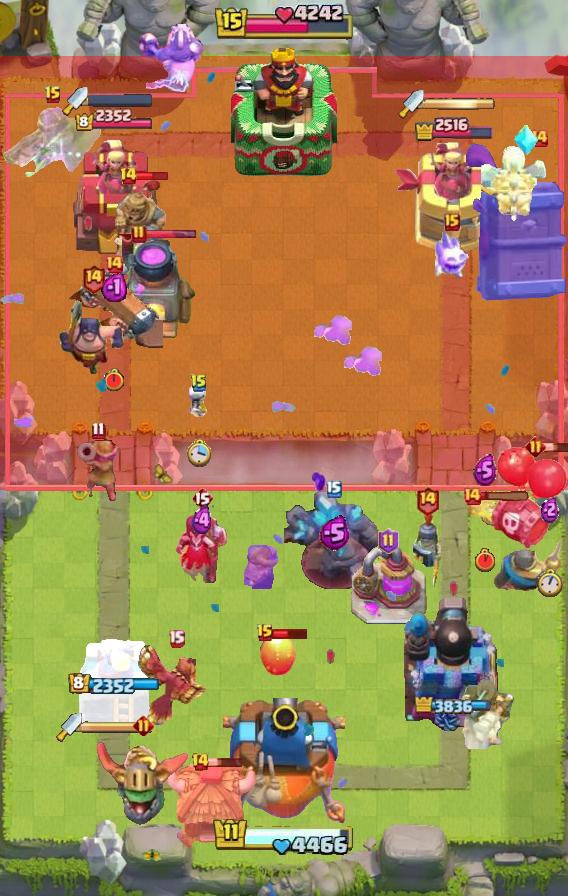bar: (395, 142, 514, 256), (70, 138, 158, 256), (77, 637, 151, 731)
barbarian-hut: (1, 101, 105, 179)
battle-healer: (65, 267, 163, 349)
bomb-tower: (77, 433, 119, 503)
cannoneer-tower: (284, 489, 384, 589)
clock: (212, 816, 356, 858), (213, 3, 355, 43)
dart-goblin: (464, 143, 568, 301)
electro-spirit: (319, 515, 349, 551), (101, 270, 127, 301), (473, 454, 497, 486), (191, 504, 214, 535), (541, 495, 559, 523)
elixir: (537, 568, 563, 598), (188, 439, 213, 468), (103, 368, 125, 392), (475, 548, 495, 572)
emote: (145, 229, 197, 240), (479, 490, 531, 501), (271, 627, 308, 640), (207, 756, 244, 768), (135, 170, 170, 182), (544, 441, 568, 453)
firecracker: (493, 538, 565, 593)
freeze: (136, 24, 204, 96)
goblin-giant: (244, 542, 280, 589)
golden-knight: (138, 644, 214, 726)
heal-spirit: (186, 385, 212, 419)
hog: (258, 633, 298, 677)
hunter: (107, 234, 197, 342)
ice-spirit-evolution: (466, 497, 504, 527)
inferno-dragon: (458, 673, 516, 749)
king-tower: (223, 698, 345, 826), (231, 43, 337, 181)
king-tower-bar: (424, 97, 496, 111), (82, 720, 154, 734), (88, 93, 152, 106)
mini-pekka: (481, 140, 547, 226)
mirror: (432, 229, 472, 281)
monk: (58, 296, 128, 376)
night-witch: (95, 739, 191, 827)
pad_2: (513, 124, 539, 156)
pekka: (349, 544, 427, 626)
prince: (166, 761, 260, 851)
princess: (408, 508, 446, 596)
ram-rider: (109, 177, 167, 277)
rascal-boy: (173, 513, 231, 585)
royal-recruit-evolution: (486, 446, 568, 552)
selected: (68, 673, 160, 697), (414, 114, 495, 141), (74, 108, 154, 133), (414, 697, 492, 714)
text: (415, 485, 440, 516), (82, 263, 106, 294), (378, 528, 399, 554), (191, 486, 213, 510), (525, 435, 547, 457), (133, 715, 154, 737), (529, 128, 549, 148), (118, 166, 138, 186), (104, 254, 124, 274), (462, 486, 482, 506), (191, 752, 210, 772), (44, 85, 62, 105), (190, 373, 208, 393), (256, 623, 274, 643), (167, 629, 185, 648), (131, 224, 147, 244), (444, 213, 460, 231), (326, 480, 342, 498), (91, 421, 105, 440)
tower-bar: (404, 593, 502, 731)
